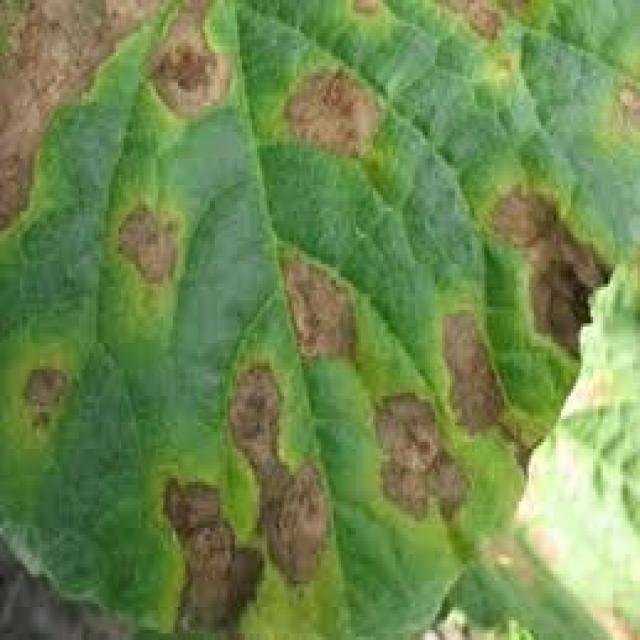Panama: (492, 121, 608, 384), (225, 312, 328, 594), (118, 455, 251, 633), (359, 377, 458, 540), (415, 250, 487, 440), (282, 64, 382, 166), (144, 10, 232, 125), (285, 245, 367, 365), (106, 185, 182, 303), (429, 0, 538, 49), (593, 58, 640, 170), (7, 353, 63, 421), (324, 0, 393, 36)
